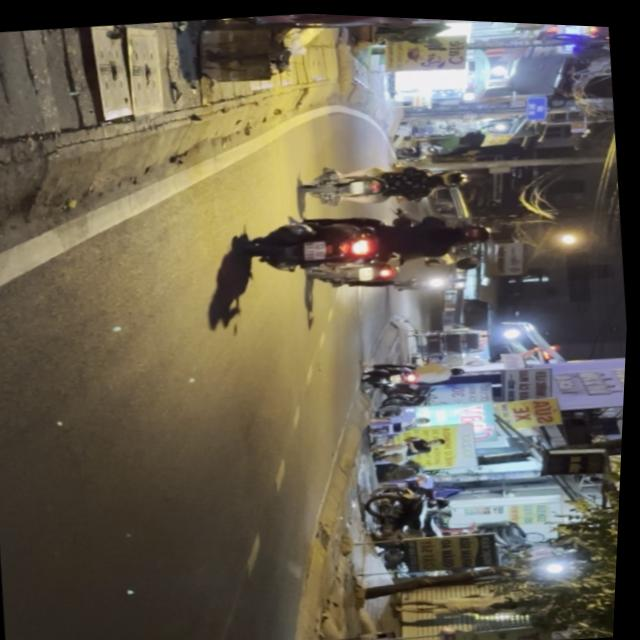licenseplate: (238, 192, 501, 283)
motorcyclist: (453, 217, 496, 244)
nohelmet: (305, 238, 330, 259)
